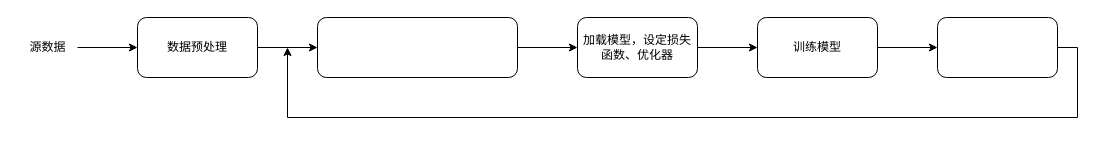
Image size: 1103x143. Some labels were removed from this diagram. The centre of each missing label's shape, as x and y in pixels:
测试模型，并打印预测准确率: the point at 997,47
设定训练超参数： batch大小，学习率大小，训练轮数: the point at 417,47
